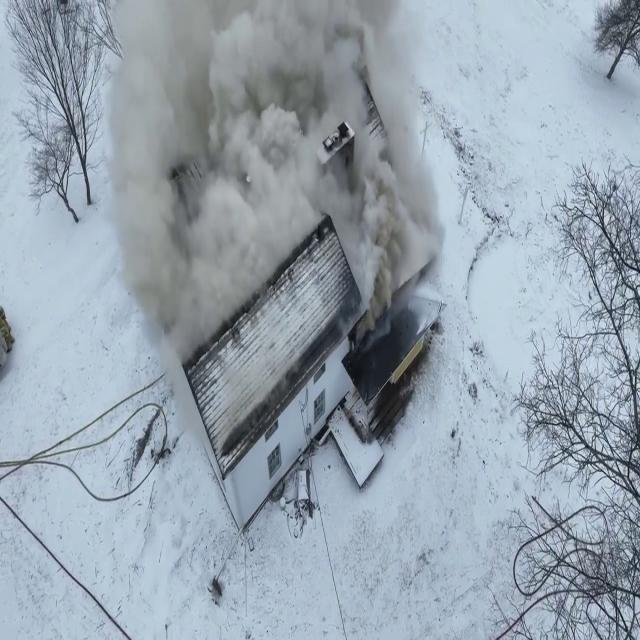Smoke: (84, 0, 464, 340)
